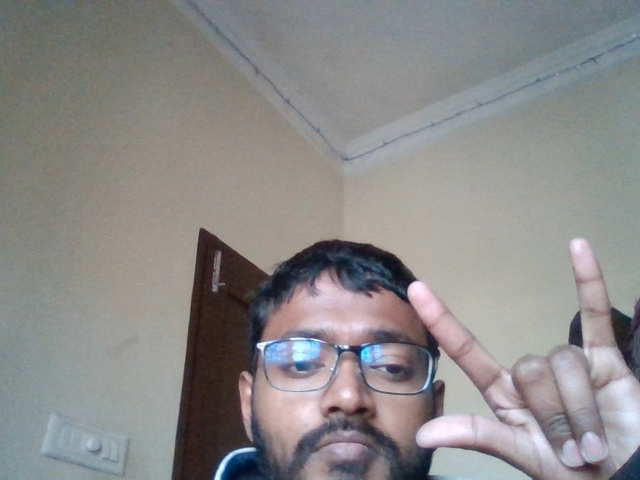iloveyou: (387, 232, 640, 480)
